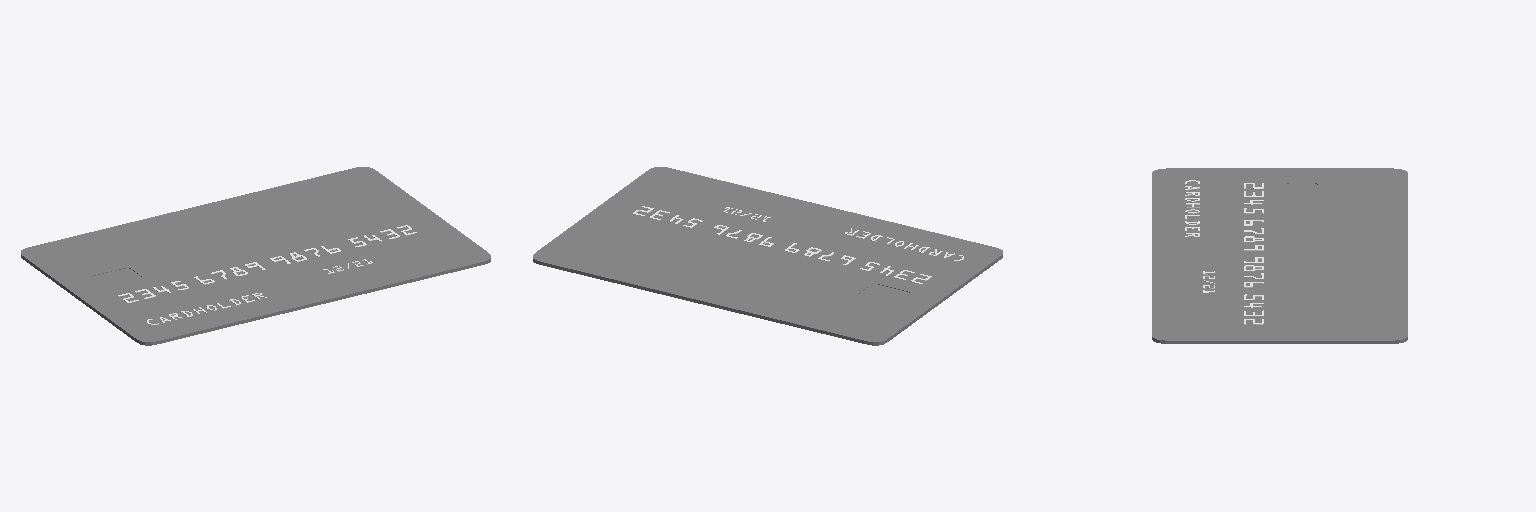
Rendered from Credit_Card.obj.
The picture shows the model from 3 angles: view 1: azimuth 30°, elevation 25°; view 2: azimuth 150°, elevation 25°; view 3: azimuth 270°, elevation 25°; orthographic projection.
Visible parts, largest first — view 1: Box001, Credit_Card_Number_16; view 2: Box001, Credit_Card_Number_16; view 3: Box001, Credit_Card_Number_16.
Boxes of the visible parts, x1=… form: Box001: x1=21, y1=167, x2=490, y2=345; Credit_Card_Number_16: x1=118, y1=225, x2=416, y2=302; Box001: x1=533, y1=167, x2=1002, y2=345; Credit_Card_Number_16: x1=633, y1=206, x2=931, y2=283; Box001: x1=1152, y1=168, x2=1407, y2=343; Credit_Card_Number_16: x1=1244, y1=183, x2=1263, y2=324.
Bounding box in the file's own units: 85.6 × 0.837 × 53.98.